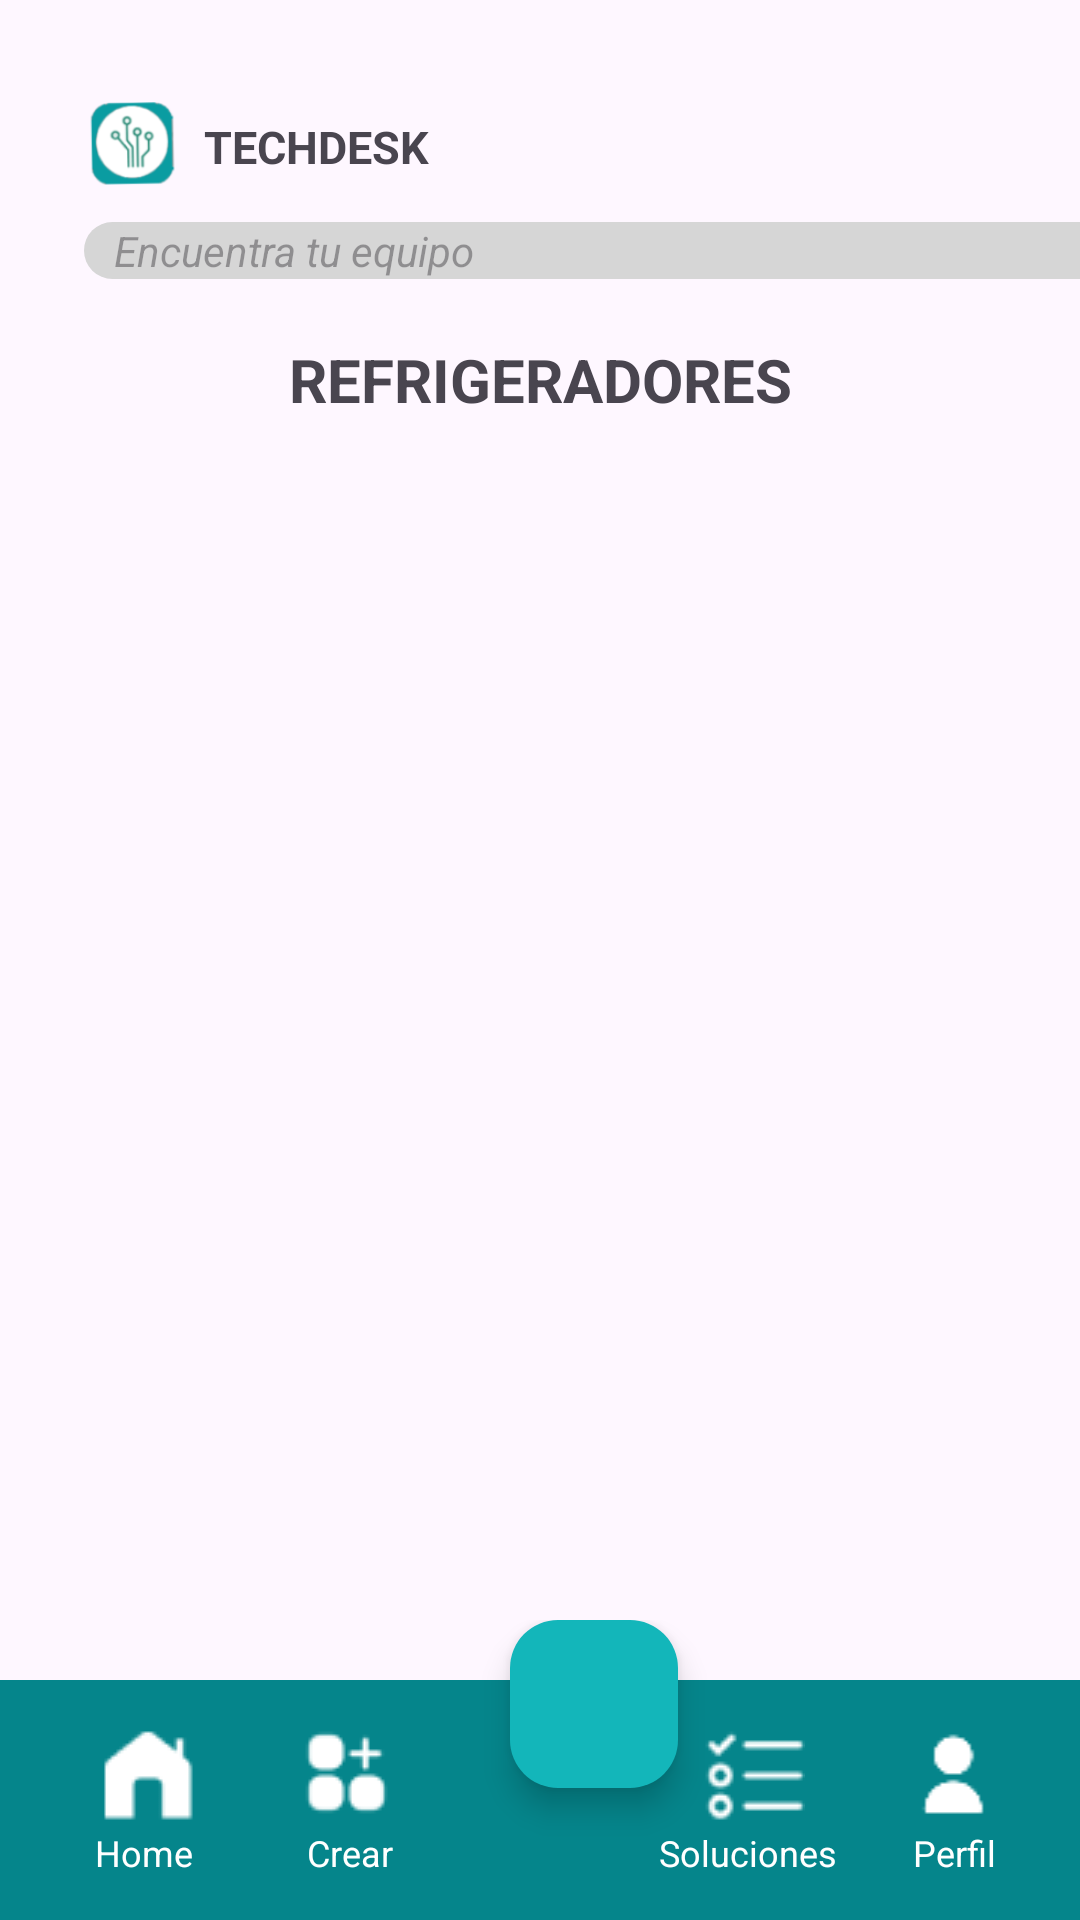

Where to tap for icons on this 1080x1920 app screen, as (x=x, y=y):
apps: (x=346, y=1772)
tareas: (x=755, y=1776)
usuario: (x=953, y=1774)
